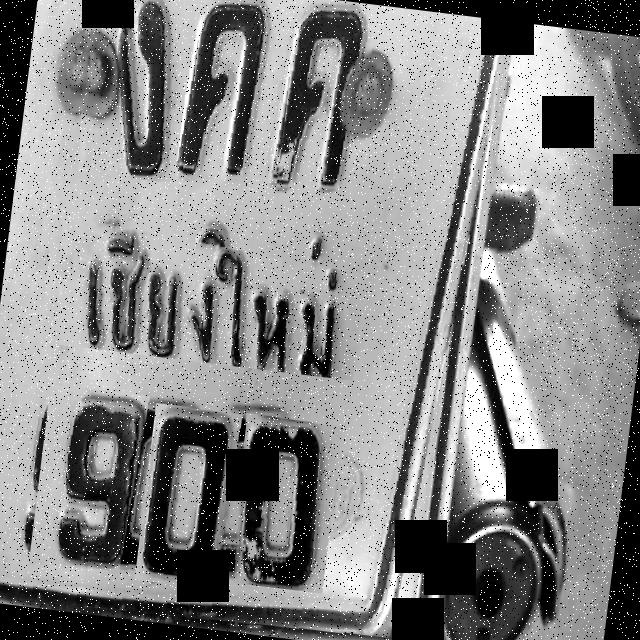letters: (63, 0, 197, 183), (29, 384, 150, 576), (274, 0, 380, 211), (225, 413, 342, 594), (134, 402, 242, 590), (181, 0, 284, 191)
license-plate: (0, 0, 512, 639)
province: (35, 212, 368, 380)
